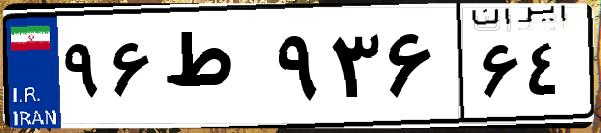3: (330, 28, 385, 110)
4: (525, 38, 570, 115)
6: (385, 28, 445, 110), (475, 38, 525, 113), (110, 28, 158, 98)
9: (270, 28, 330, 110), (57, 26, 110, 100)
ط: (158, 20, 270, 120)
